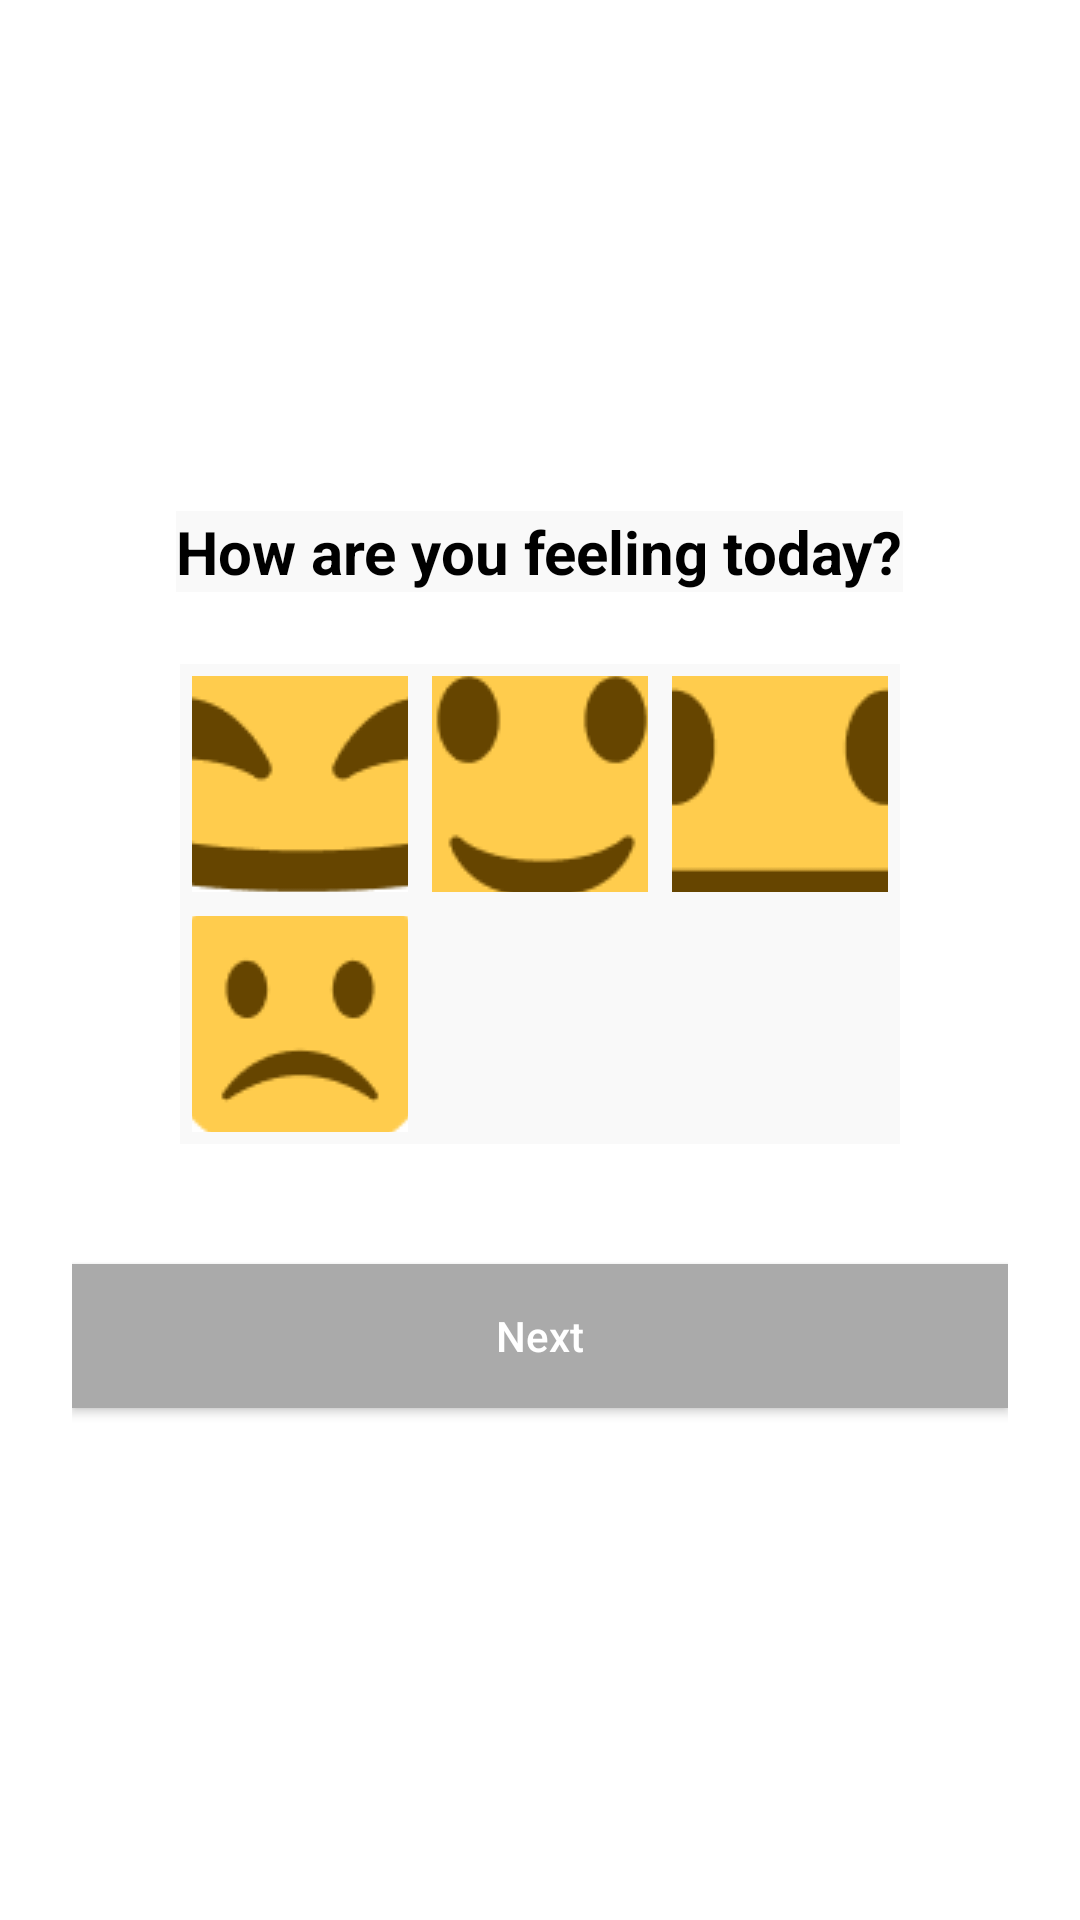

Screen size 1080px×1920px. Icon name, then its center in pixels as (x=x, y=y):
Happy: (x=540, y=784)
Neutral: (x=780, y=784)
Sad: (x=300, y=1024)
Very Happy: (x=300, y=784)
